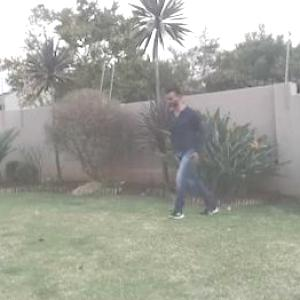follow: (168, 79, 208, 221)
